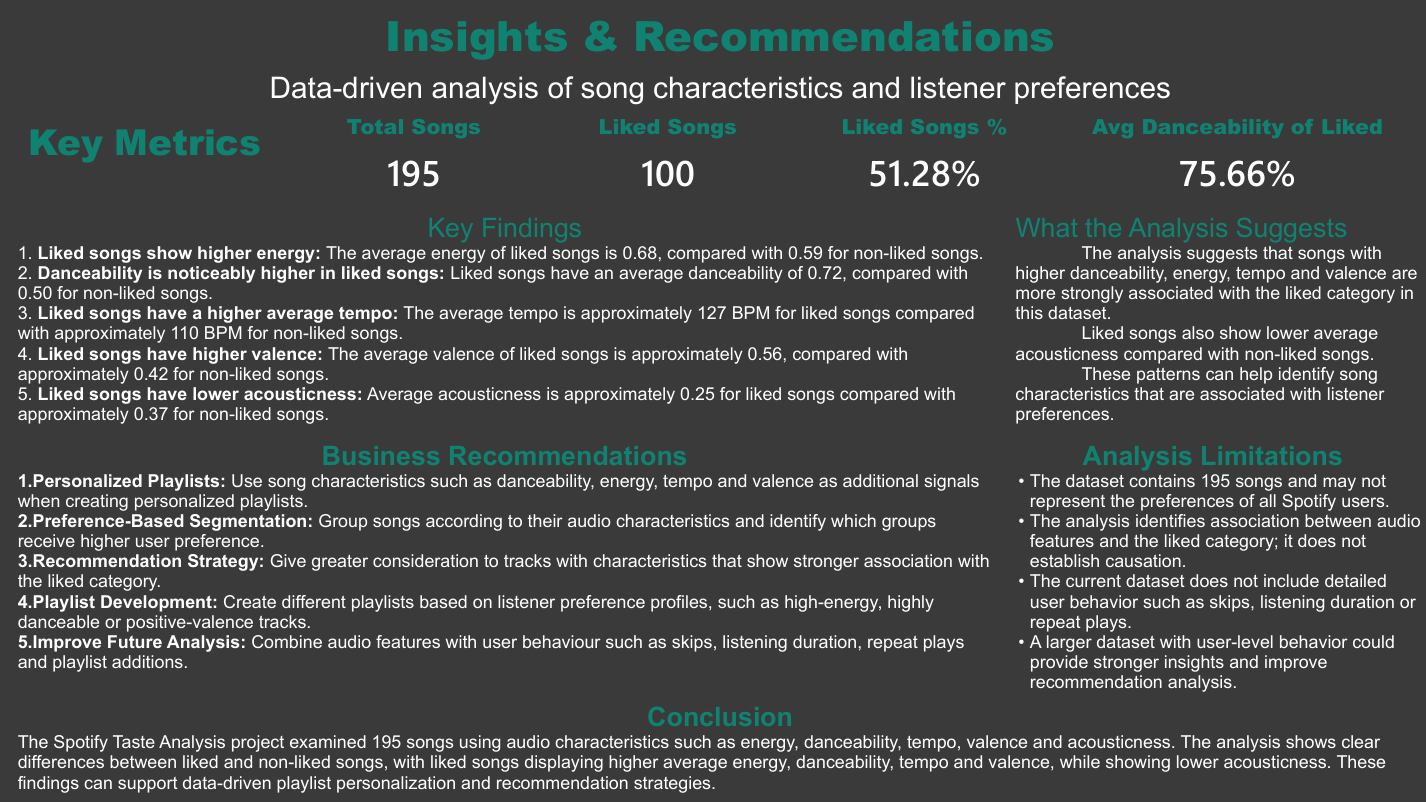

The dashboard page shown, as its layout file describes it:
{"tool":"powerbi","page":{"name":"Page 4","canvas":[1280,720],"ordinal":3},"visuals":[{"type":"textbox","box":[11,0,1268.9,68.2],"z":0},{"type":"textbox","box":[11,59.4,1268.9,47.3],"z":1000},{"type":"textbox","box":[11,99,237.5,68.2],"z":2000},{"type":"cardVisual","title":"Total Songs","fields":{"Data":["CountNonNull(spotify_cleaned (2).liked)"]},"box":[270.5,99,201.2,85.8],"z":3000},{"type":"cardVisual","title":"Liked Songs","fields":{"Data":["spotify_cleaned (2).Liked Songs"]},"box":[498.1,99,201.2,85.8],"z":4000},{"type":"cardVisual","title":"Liked Songs %","fields":{"Data":["spotify_cleaned (2).Liked Songs %"]},"box":[727.9,99,201.2,85.8],"z":5000},{"type":"cardVisual","title":"Avg Danceability of Liked","fields":{"Data":["spotify_cleaned (2).Avg Danceability-liked"]},"box":[972,99,273.8,85.8],"z":6000},{"type":"textbox","box":[11,184.7,883,204.5],"z":7000},{"type":"textbox","box":[11,389.3,883,226.5],"z":8000},{"type":"textbox","box":[905,184.7,375,204.5],"z":9000},{"type":"textbox","box":[894,389.3,386,241.9],"z":10000},{"type":"textbox","box":[11,623.5,1268.9,96.8],"z":11000}]}

Visuals, with their boxes in screenshot pixels (x1, y1, x2, y2), scaled from the page's 1280x720 canvas onto the 1426x802 screenshot:
textbox: select_region(12, 0, 1425, 76)
textbox: select_region(12, 66, 1425, 119)
textbox: select_region(12, 110, 277, 186)
"Total Songs" cardVisual: select_region(301, 110, 526, 206)
"Liked Songs" cardVisual: select_region(555, 110, 779, 206)
"Liked Songs %" cardVisual: select_region(811, 110, 1035, 206)
"Avg Danceability of Liked" cardVisual: select_region(1083, 110, 1388, 206)
textbox: select_region(12, 206, 996, 434)
textbox: select_region(12, 434, 996, 686)
textbox: select_region(1008, 206, 1425, 434)
textbox: select_region(996, 434, 1425, 703)
textbox: select_region(12, 695, 1425, 801)
